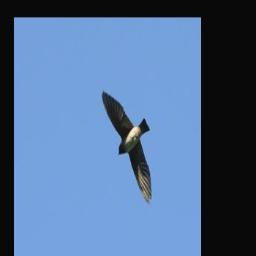Swallow: (104, 89, 154, 205)
